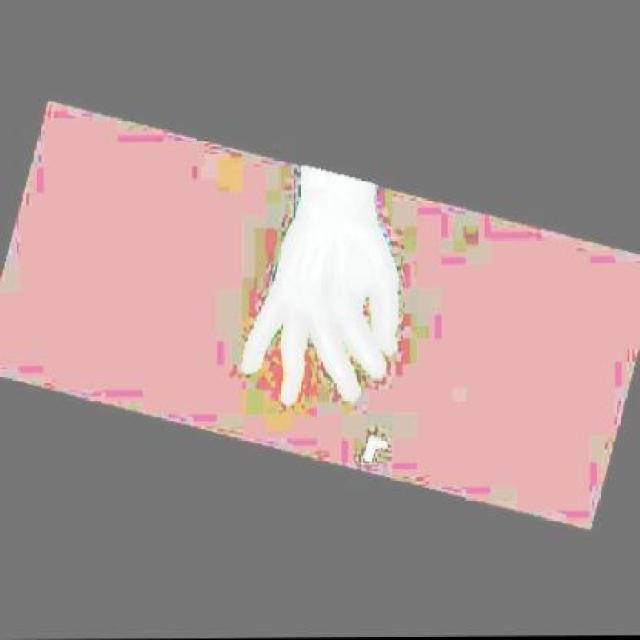Fracture: (283, 371, 306, 396)
